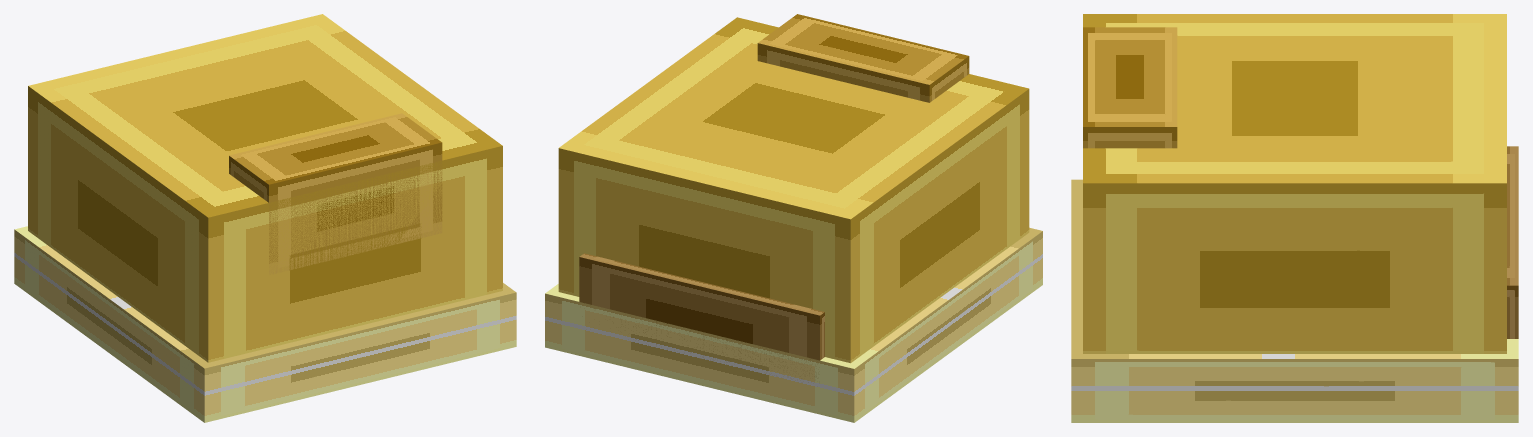
The picture shows the model from 3 angles, left to right: view 1: azimuth 30°, elevation 25°; view 2: azimuth 150°, elevation 25°; view 3: azimuth 270°, elevation 25°; orthographic projection. The views are drawn at different scales.
Parts seen in each view (by area): view 1: gold_head; view 2: gold_head; view 3: gold_head.
Boxes of the visible parts, box(x1,y1,x2,y2) form: gold_head: box(14, 14, 516, 422); gold_head: box(545, 14, 1042, 422); gold_head: box(1071, 14, 1518, 422).
Size of the model in its own units: 0.36 by 0.24 by 0.38.
Materials: 4 (4 with a texture image).
